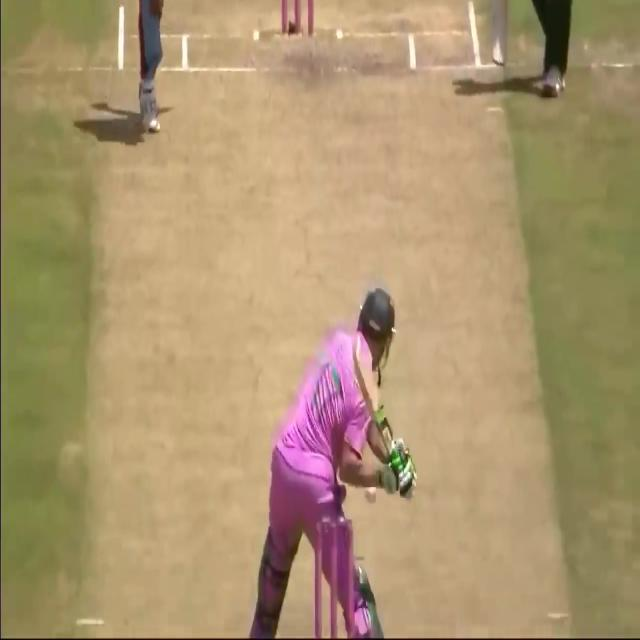Ball: (250, 279, 415, 637)
